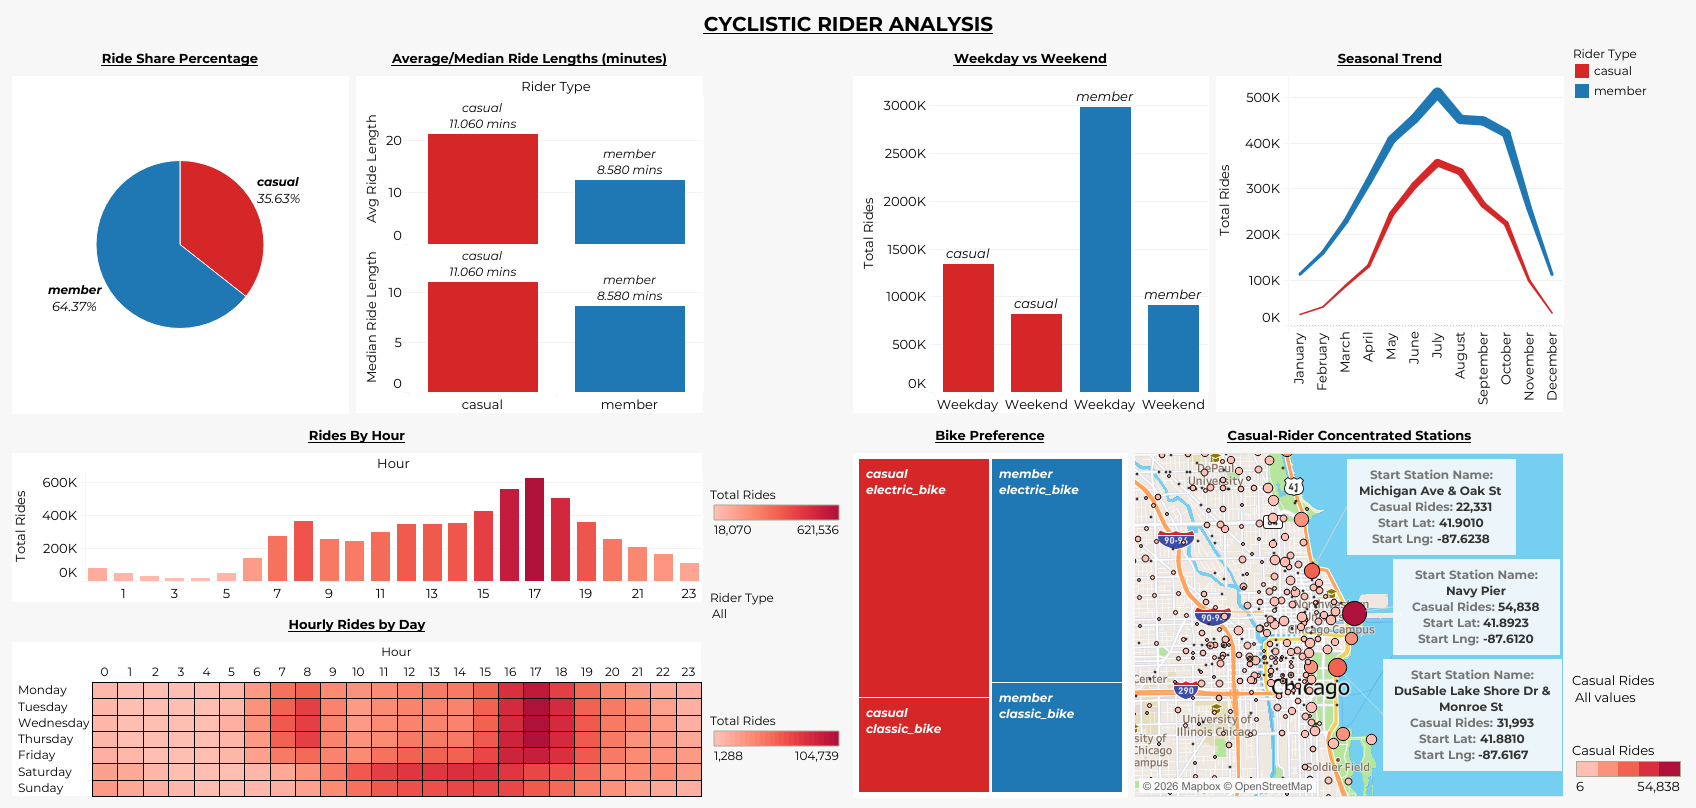

The page's visual inventory and layout, read from the dashboard file:
{"tool":"tableau","page":{"name":"Dashboard 1","canvas":[1000,1000],"units":"permille","ordinal":0},"visuals":[{"type":"text","box":[4.7,9.9,990.6,39.2]},{"type":"worksheet","title":"Ride Share Percentage","mark":"Pie","box":[4.7,49.1,203,465.9]},{"type":"worksheet","title":"Average/Median Ride Lengths","mark":"Automatic","rows":["avg_ride_length","median_ride_length"],"cols":["rider_type"],"box":[207.7,49.1,208.7,465.9]},{"type":"blank","box":[416.3,49.1,84,465.9]},{"type":"worksheet","title":"Weekday vs Weekend","mark":"Automatic","rows":["total_rides"],"cols":["rider_type","day_type"],"box":[500.3,49.1,213.9,465.9]},{"type":"worksheet","title":"Seasonal Trend","mark":"Line","rows":["total_rides"],"cols":["month"],"box":[714.2,49.1,209.9,465.9]},{"type":"legend","title":"Seasonal Trend","param":"[federated.17879wi1kni6nr115y1gx16lg22i].[none:rider_type:nk]","box":[924.2,49.1,71.1,465.9]},{"type":"worksheet","title":"Rides By Hour","mark":"Bar","rows":["total_rides"],"cols":["hour"],"box":[4.7,515,411.6,233.7]},{"type":"blank","box":[416.3,515,83.7,76.8]},{"type":"worksheet","title":"Bike Preference","mark":"Automatic","box":[500,515,166.5,475.1]},{"type":"worksheet","title":"Casual-Rider Concentrated Stations","mark":"Circle","rows":["start_lat"],"cols":["start_lng"],"box":[666.5,515,257.6,475.1]},{"type":"blank","box":[924.1,515,71.2,309.1]},{"type":"legend","title":"Rides By Hour","param":"[federated.1kjub821o2anqe1h8123z1yxfob3].[sum:total_rides:qk]","box":[416.3,591.7,83.7,131.1]},{"type":"filter","title":"Rides By Hour","param":"[federated.1kjub821o2anqe1h8123z1yxfob3].[none:rider_type:nk]","box":[416.3,722.8,83.7,108.8]},{"type":"worksheet","title":"Hourly Rides by Day","mark":"Square","rows":["day_of_week"],"cols":["hour"],"box":[4.7,748.7,411.6,241.4]},{"type":"filter","title":"Casual-Rider Concentrated Stations","param":"[federated.19uyvho033py911grxfk30nsgojv].[sum:casual_rides:qk]","box":[924.1,824.1,71.2,82.8]},{"type":"blank","box":[416.3,831.6,83.7,39.4]},{"type":"legend","title":"Hourly Rides by Day","param":"[federated.0nan1l90aavoxx16ju13i1p57lra].[sum:total_rides:qk]","box":[416.3,871,83.7,119.1]},{"type":"legend","title":"Casual-Rider Concentrated Stations","param":"[federated.19uyvho033py911grxfk30nsgojv].[sum:casual_rides:qk]","box":[924.1,906.9,71.2,83.2]}]}

Visuals, with their boxes on the dashboard's canvas, which has no fixed pixel size, in thousandths of its width and height (x1, y1, x2, y2). These are canvas units, not pixel positions in the 1696x808 screenshot, which may show the page scaled, cropped or inside an application window:
text: crop(5, 10, 995, 49)
"Ride Share Percentage" worksheet (Pie marks): crop(5, 49, 208, 515)
"Average/Median Ride Lengths" worksheet: crop(208, 49, 416, 515)
blank: crop(416, 49, 500, 515)
"Weekday vs Weekend" worksheet: crop(500, 49, 714, 515)
"Seasonal Trend" worksheet (Line marks): crop(714, 49, 924, 515)
"Seasonal Trend" legend: crop(924, 49, 995, 515)
"Rides By Hour" worksheet (Bar marks): crop(5, 515, 416, 749)
blank: crop(416, 515, 500, 592)
"Bike Preference" worksheet: crop(500, 515, 666, 990)
"Casual-Rider Concentrated Stations" worksheet (Circle marks): crop(666, 515, 924, 990)
blank: crop(924, 515, 995, 824)
"Rides By Hour" legend: crop(416, 592, 500, 723)
"Rides By Hour" filter: crop(416, 723, 500, 832)
"Hourly Rides by Day" worksheet (Square marks): crop(5, 749, 416, 990)
"Casual-Rider Concentrated Stations" filter: crop(924, 824, 995, 907)
blank: crop(416, 832, 500, 871)
"Hourly Rides by Day" legend: crop(416, 871, 500, 990)
"Casual-Rider Concentrated Stations" legend: crop(924, 907, 995, 990)
